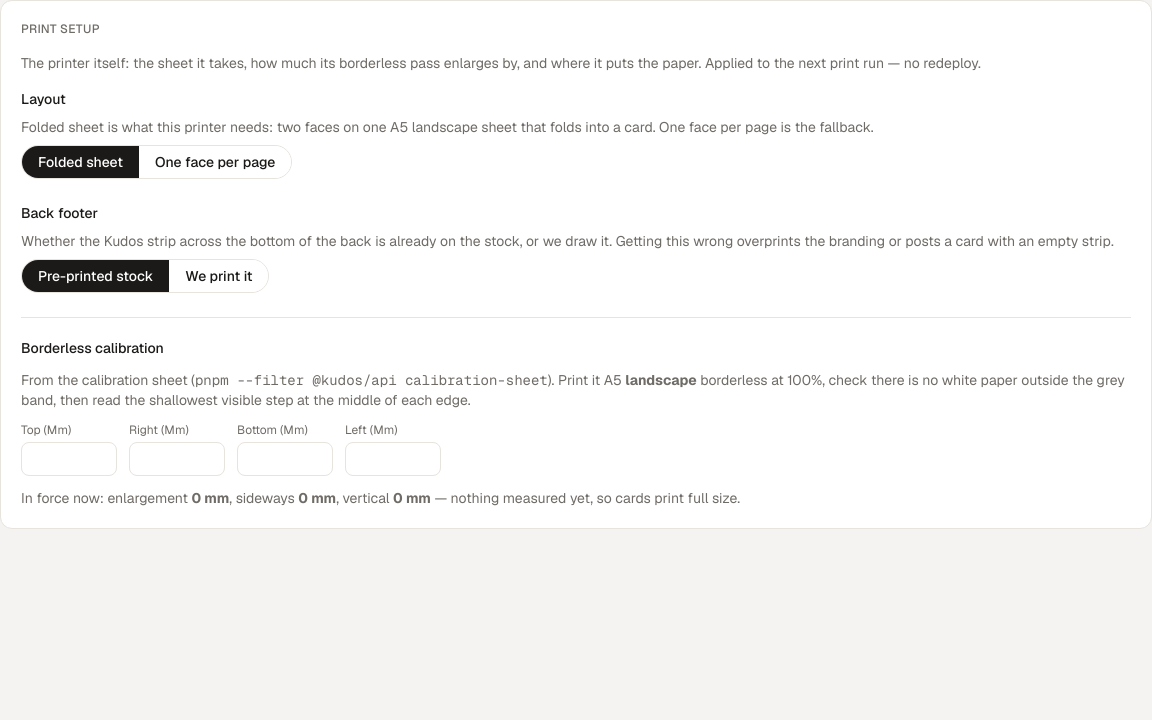
Test: PrintProfileSetup › reads a vertical misplacement too, not just a sideways one
The image size is (1152, 720).
Expected: the heading "Borderless calibration" is shown, x1=21 y1=339 x2=164 y2=357
Type "4" into the number field labelled "top (mm)" at (69, 459), box x1=21 y1=442 x2=117 y2=476
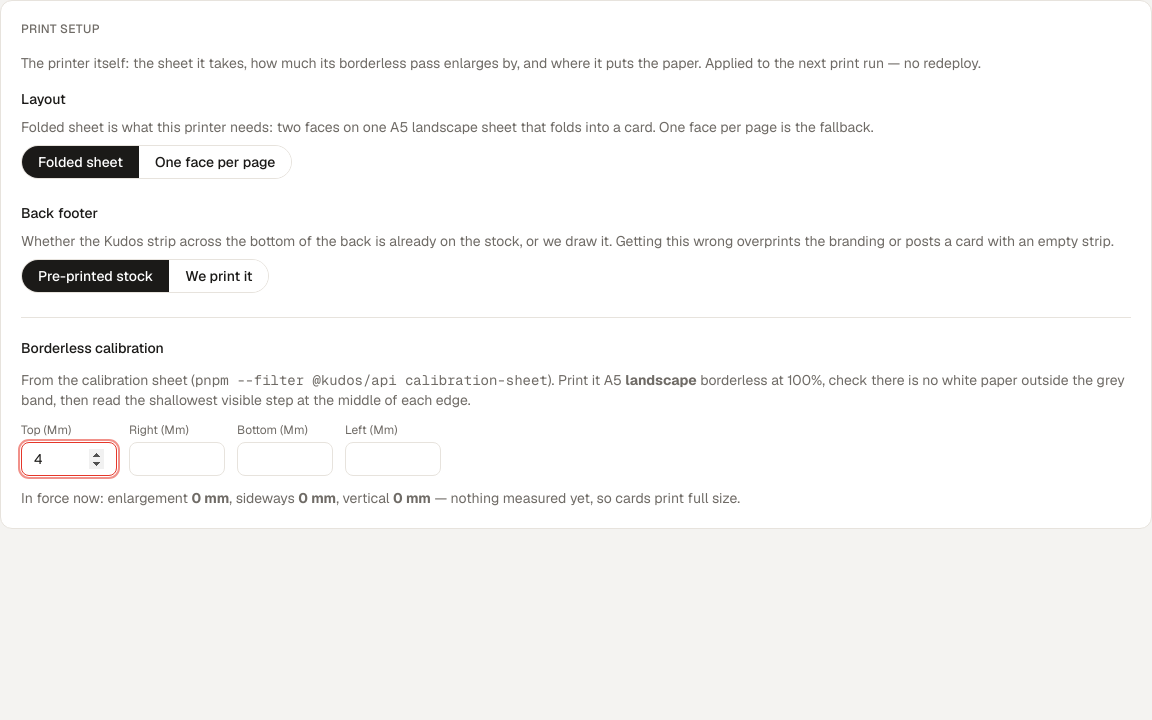
Type "3" into the number field labelled "right (mm)" at (177, 459), box x1=129 y1=442 x2=225 y2=476
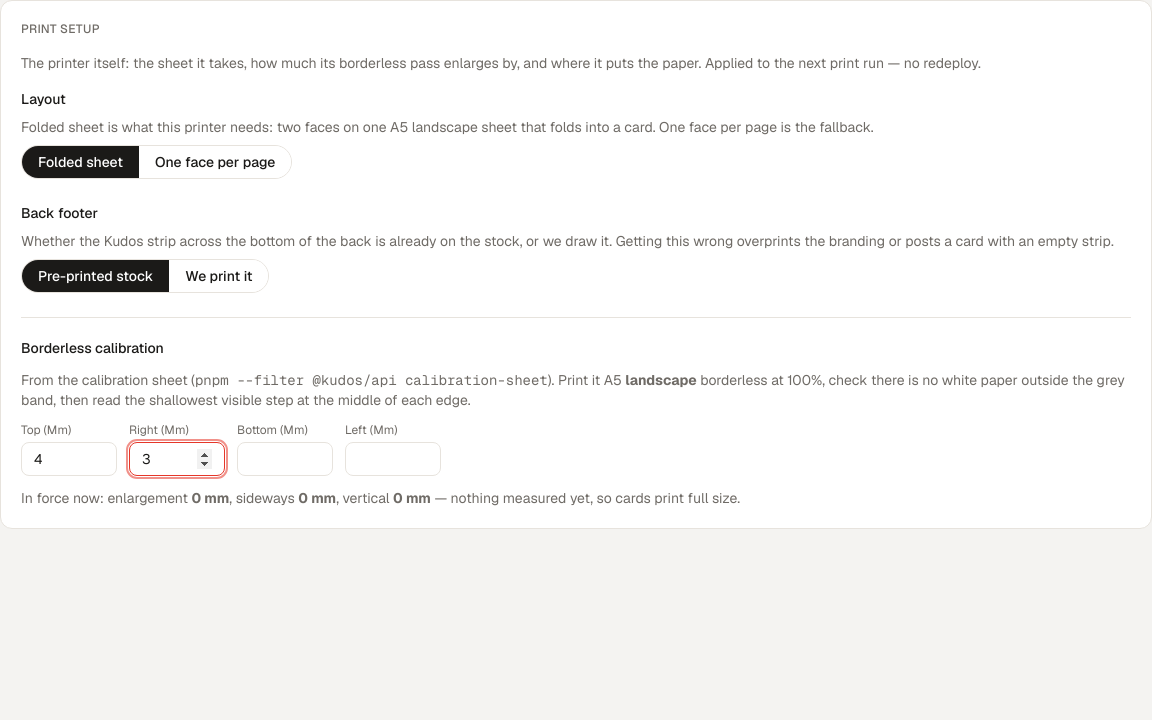
Type "1" into the number field labelled "bottom (mm)" at (285, 459), box x1=237 y1=442 x2=333 y2=476
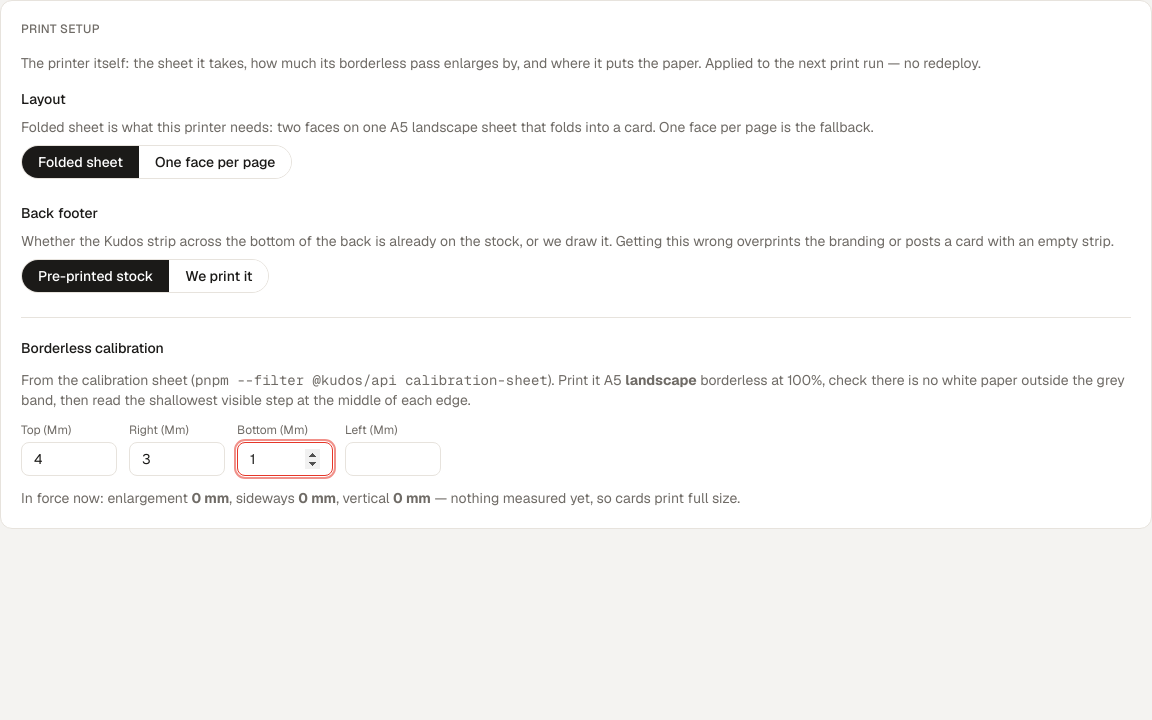
Type "3" into the number field labelled "left (mm)" at (393, 459), box x1=345 y1=442 x2=441 y2=476
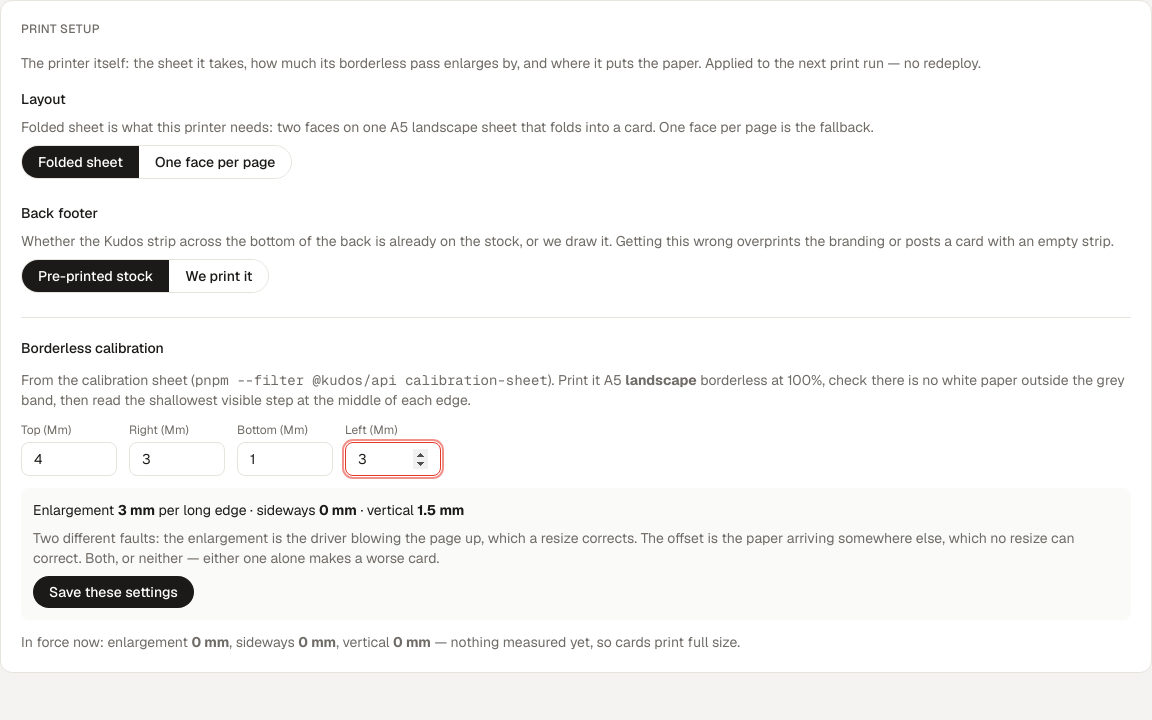
Now the text "Enlargement" shows "vertical 1.5 mm", box x1=33 y1=501 x2=464 y2=519
Now the text "Enlargement" shows "sideways 0 mm", box x1=33 y1=501 x2=464 y2=519
